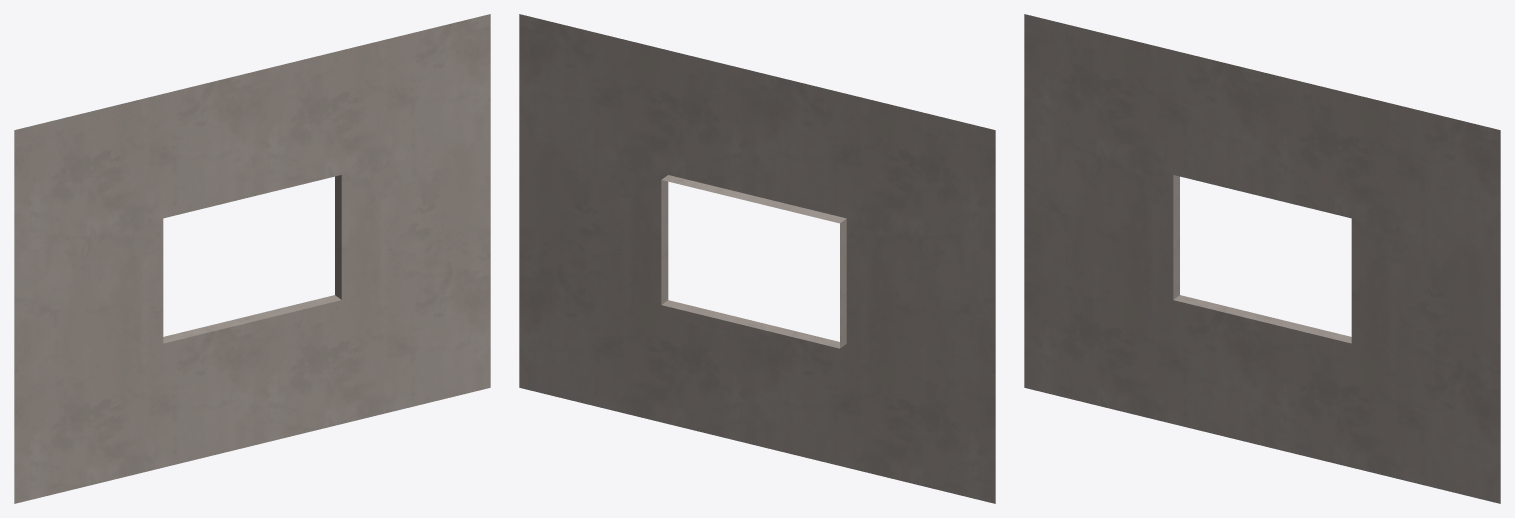
Rendered from SM_ENV_K1_WALL_WINDOW_STRAIGHT_4X3_01.fbx.
The picture shows the model from 3 angles, left to right: view 1: azimuth 30°, elevation 25°; view 2: azimuth 150°, elevation 25°; view 3: azimuth 330°, elevation 25°; orthographic projection.
Parts seen in each view (by area): view 1: SM_ENV_K1_WALL_WINDOW_STRAIGHT_4X3_01; view 2: SM_ENV_K1_WALL_WINDOW_STRAIGHT_4X3_01; view 3: SM_ENV_K1_WALL_WINDOW_STRAIGHT_4X3_01.
Boxes of the visible parts, x1,y1,x2,y2 form: SM_ENV_K1_WALL_WINDOW_STRAIGHT_4X3_01: [14, 14, 490, 503]; SM_ENV_K1_WALL_WINDOW_STRAIGHT_4X3_01: [519, 14, 995, 503]; SM_ENV_K1_WALL_WINDOW_STRAIGHT_4X3_01: [1024, 14, 1500, 503].
Size of the model in its own units: 4 by 3 by 0.1.
